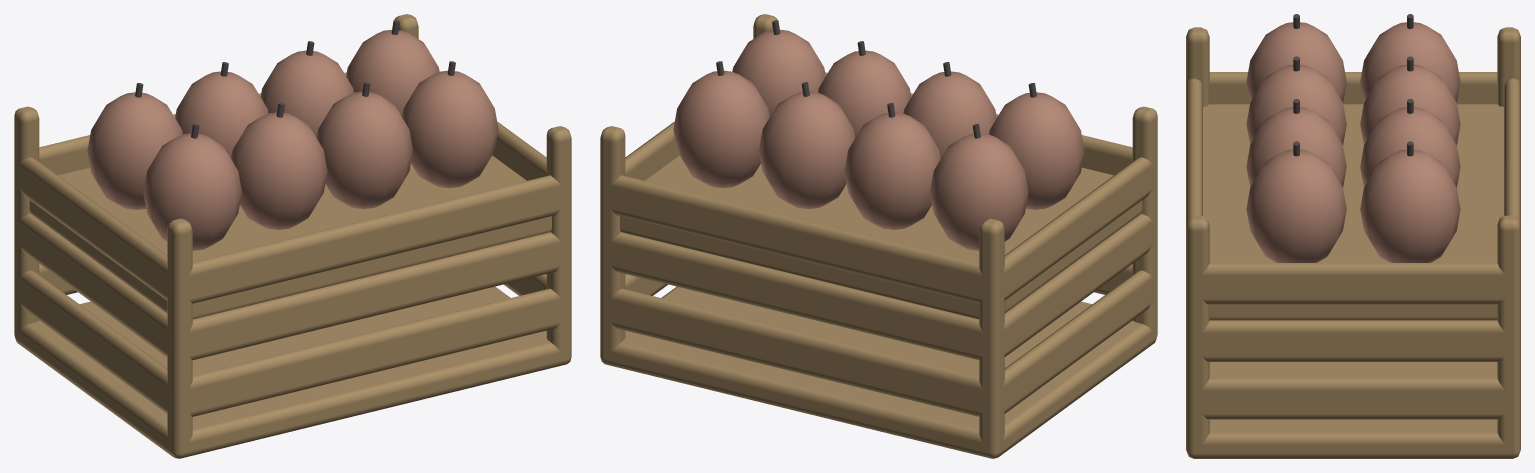
Rendered from applecrate.glb.
3 views of the same model, side by side, from view 1: azimuth 30°, elevation 25°; view 2: azimuth 150°, elevation 25°; view 3: azimuth 270°, elevation 25° (orthographic).
Parts seen in each view (by area): view 1: apple-crate-floor, receiving-fruit-tray, apple-crate-long-slat-0-1, apple-crate-long-slat-2-1, apple-crate-long-slat-1-1, apple-5, apple-7, apple-6, apple-4, apple-0, apple-crate-end-slat-2--1, apple-crate-end-slat-0--1 (+10 smaller); view 2: apple-crate-floor, receiving-fruit-tray, apple-crate-long-slat-0--1, apple-crate-long-slat-2--1, apple-crate-long-slat-1--1, apple-1, apple-3, apple-2, apple-0, apple-4, apple-crate-end-slat-2--1, apple-crate-end-slat-0--1 (+10 smaller); view 3: receiving-fruit-tray, apple-crate-floor, apple-crate-end-slat-1-1, apple-crate-end-slat-0-1, apple-crate-end-slat-2-1, apple-3, apple-7, apple-crate-corner-1-1, apple-crate-corner-1--1, apple-0, apple-4, apple-1 (+8 smaller).
Part boxes in pixels (x1,y1,x2,y2): apple-crate-floor: (14,286,571,458); receiving-fruit-tray: (29,155,551,319); apple-crate-long-slat-0-1: (171,288,571,416); apple-crate-long-slat-2-1: (171,175,571,303); apple-crate-long-slat-1-1: (171,232,571,360); apple-5: (231,112,327,229); apple-7: (402,70,498,188); apple-6: (316,91,412,208); apple-4: (143,133,241,250); apple-0: (87,92,182,209); apple-crate-end-slat-2--1: (14,157,182,300); apple-crate-end-slat-0--1: (15,270,182,414); apple-crate-floor: (600,286,1157,458); receiving-fruit-tray: (620,155,1142,319); apple-crate-long-slat-0--1: (600,288,1000,416); apple-crate-long-slat-2--1: (600,175,1000,303); apple-crate-long-slat-1--1: (600,232,1000,360); apple-1: (844,112,940,229); apple-3: (673,70,769,188); apple-2: (759,91,855,208); apple-0: (930,133,1028,250); apple-4: (989,92,1084,209); apple-crate-end-slat-2--1: (996,157,1157,300); apple-crate-end-slat-0--1: (989,270,1156,413); receiving-fruit-tray: (1203,104,1503,320); apple-crate-floor: (1186,362,1520,458); apple-crate-end-slat-1-1: (1186,320,1517,361); apple-crate-end-slat-0-1: (1187,378,1512,419); apple-crate-end-slat-2-1: (1186,263,1512,304); apple-3: (1360,149,1460,262); apple-7: (1246,149,1346,262); apple-crate-corner-1-1: (1186,215,1209,458); apple-crate-corner-1--1: (1497,215,1520,457); apple-0: (1360,22,1460,102); apple-4: (1246,22,1346,102); apple-1: (1360,64,1460,145).
Bounding box in the file's own units: 0.7 × 0.4714 × 0.5.
